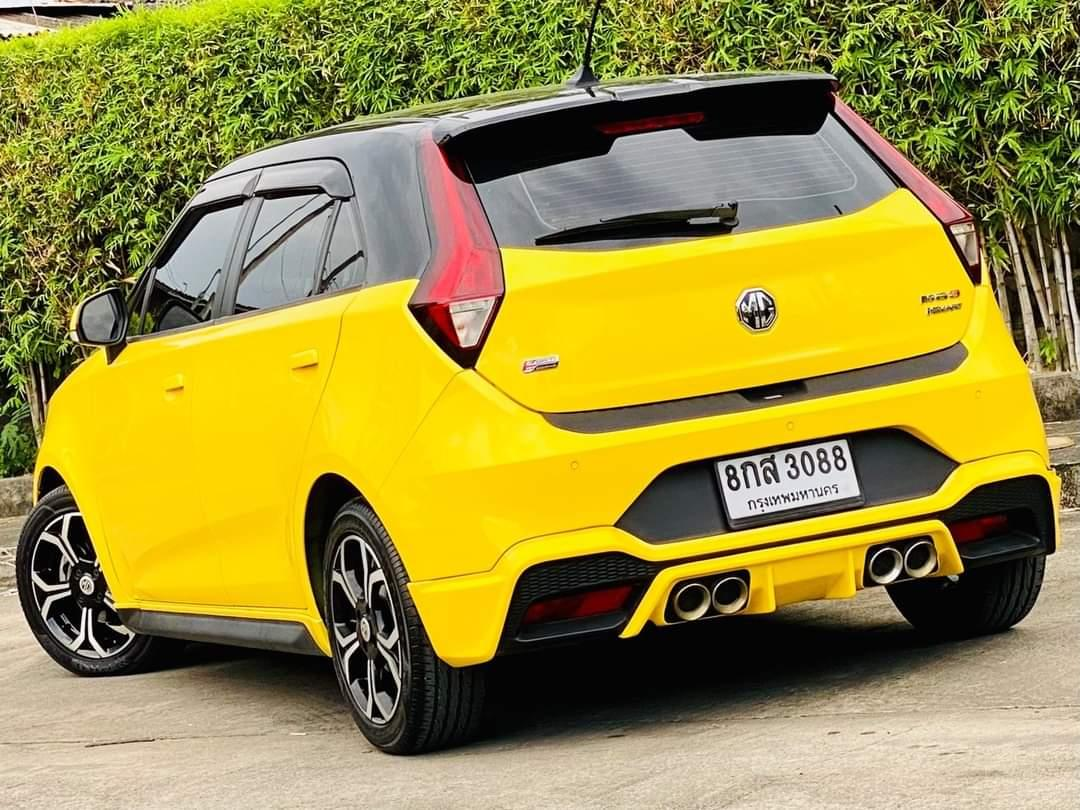license-plate: (711, 434, 867, 528)
